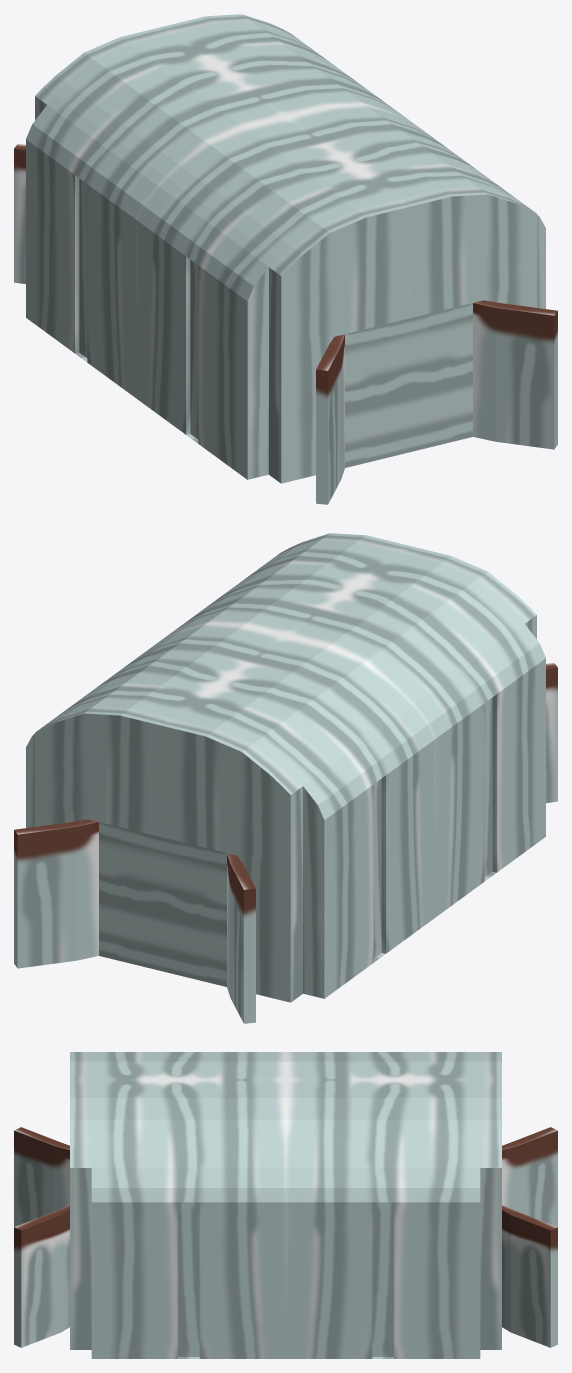
The model's file is 整備所外装.fbx.
3 views of the same model, one above another, from view 1: azimuth 30°, elevation 25°; view 2: azimuth 150°, elevation 25°; view 3: azimuth 270°, elevation 25° (orthographic). The views are drawn at different scales.
Parts seen in each view (by area): view 1: 平面; view 2: 平面; view 3: 平面.
Boxes of the visible parts, bbox=[...] form: 平面: bbox=[14, 14, 557, 504]; 平面: bbox=[14, 533, 557, 1023]; 平面: bbox=[14, 1052, 557, 1358].
Size of the model in its own units: 1400 by 1106 by 2520.
